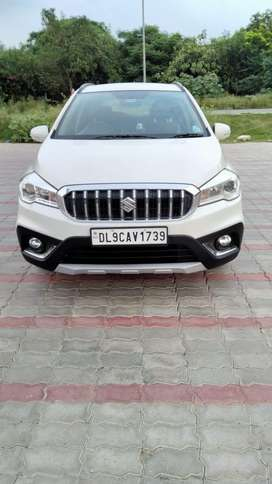DL9CAV1739: (91, 227, 167, 244)
